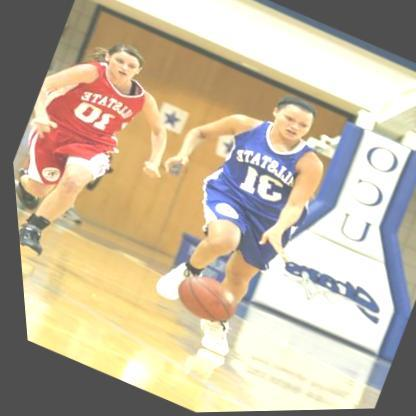basketball: (161, 266, 240, 333)
